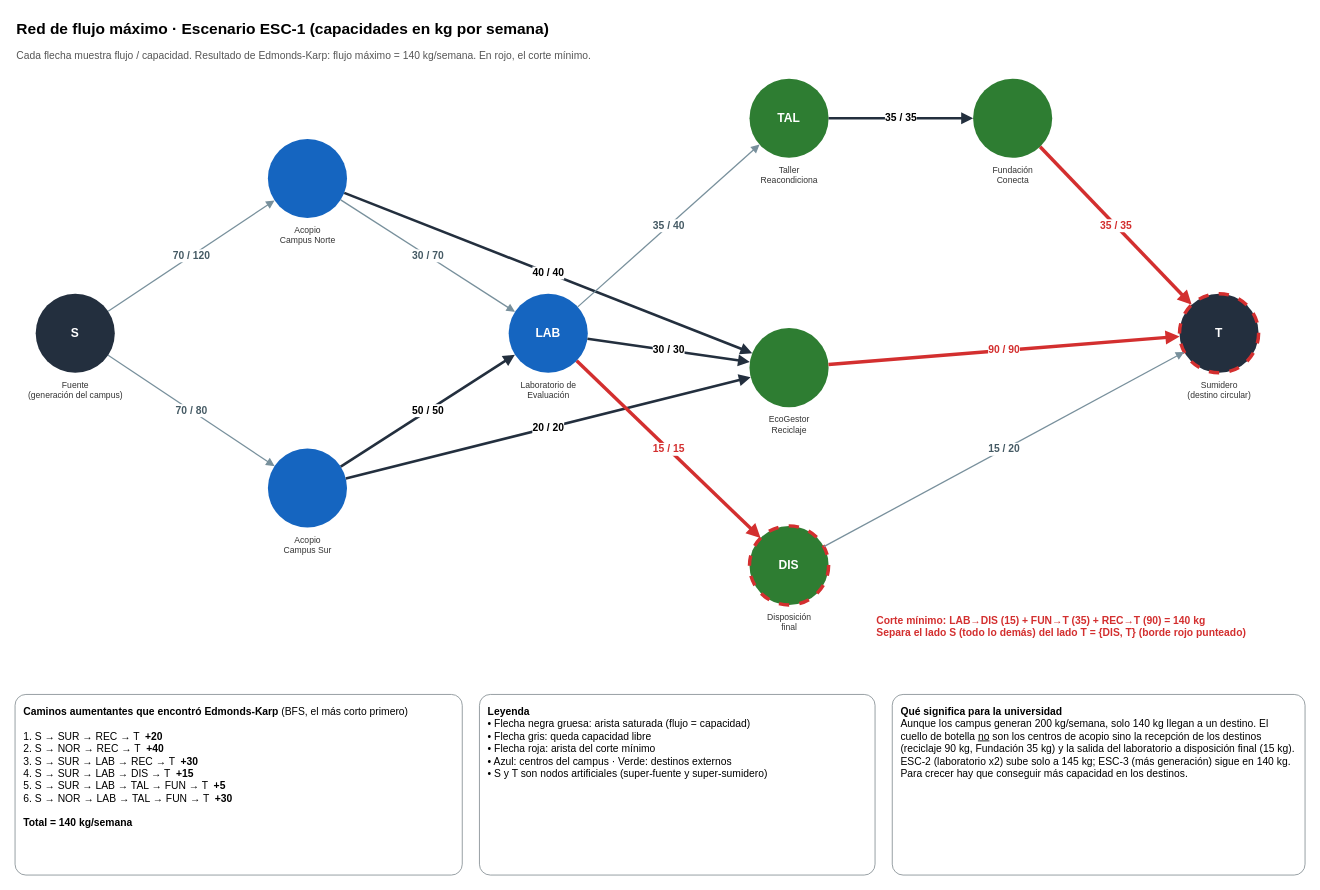
Image size: 1320x890. Some labels were removed from this diagram. Here are the shapes that lost their labels. From the top down, the centre of each, then its label:
At (x=1012, y=117): "FUN".
At (x=307, y=178): "NOR".
At (x=788, y=367): "REC".
At (x=307, y=487): "SUR".
